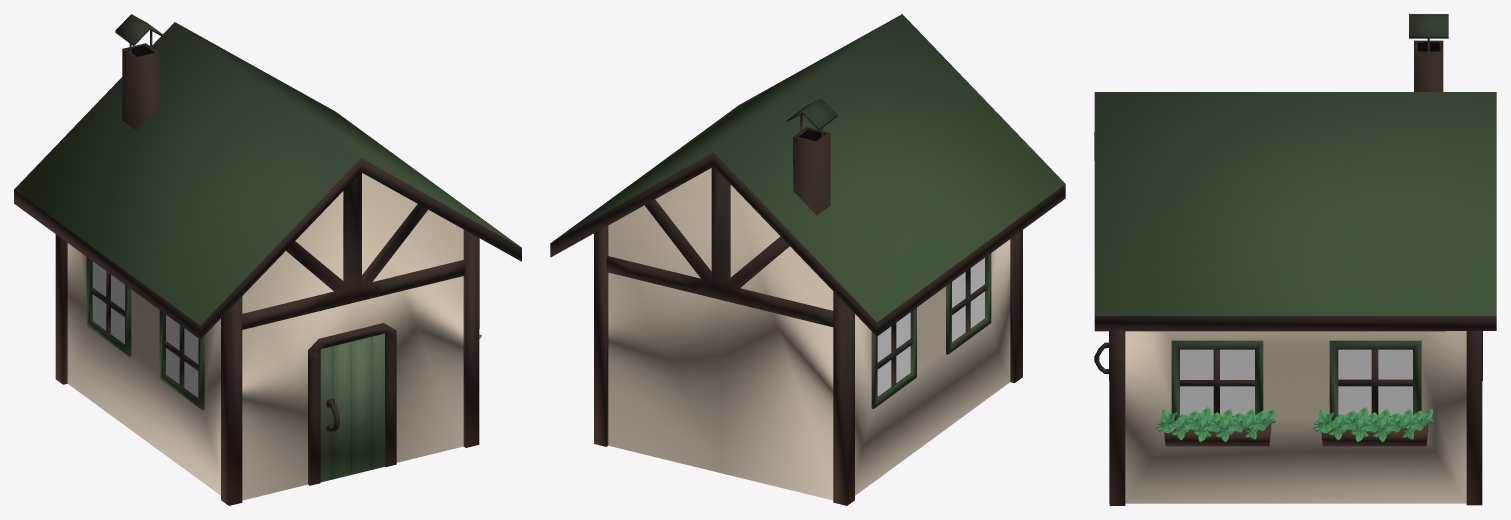
The model's file is pelurin maja.fbx.
3 views of the same model, side by side, from view 1: azimuth 30°, elevation 25°; view 2: azimuth 150°, elevation 25°; view 3: azimuth 270°, elevation 25° (orthographic). The views are drawn at different scales.
Parts seen in each view (by area): view 1: walls, Door; view 2: walls; view 3: walls, planting pot.
Part boxes in pixels (x1,y1,x2,y2): walls: (14,14,521,505); Door: (320,333,384,482); walls: (550,14,1065,505); walls: (1094,14,1496,505); planting pot: (1155,406,1433,446).
Bounding box in the file's own units: 136 × 146 × 136.
12 materials, 10 textured.
